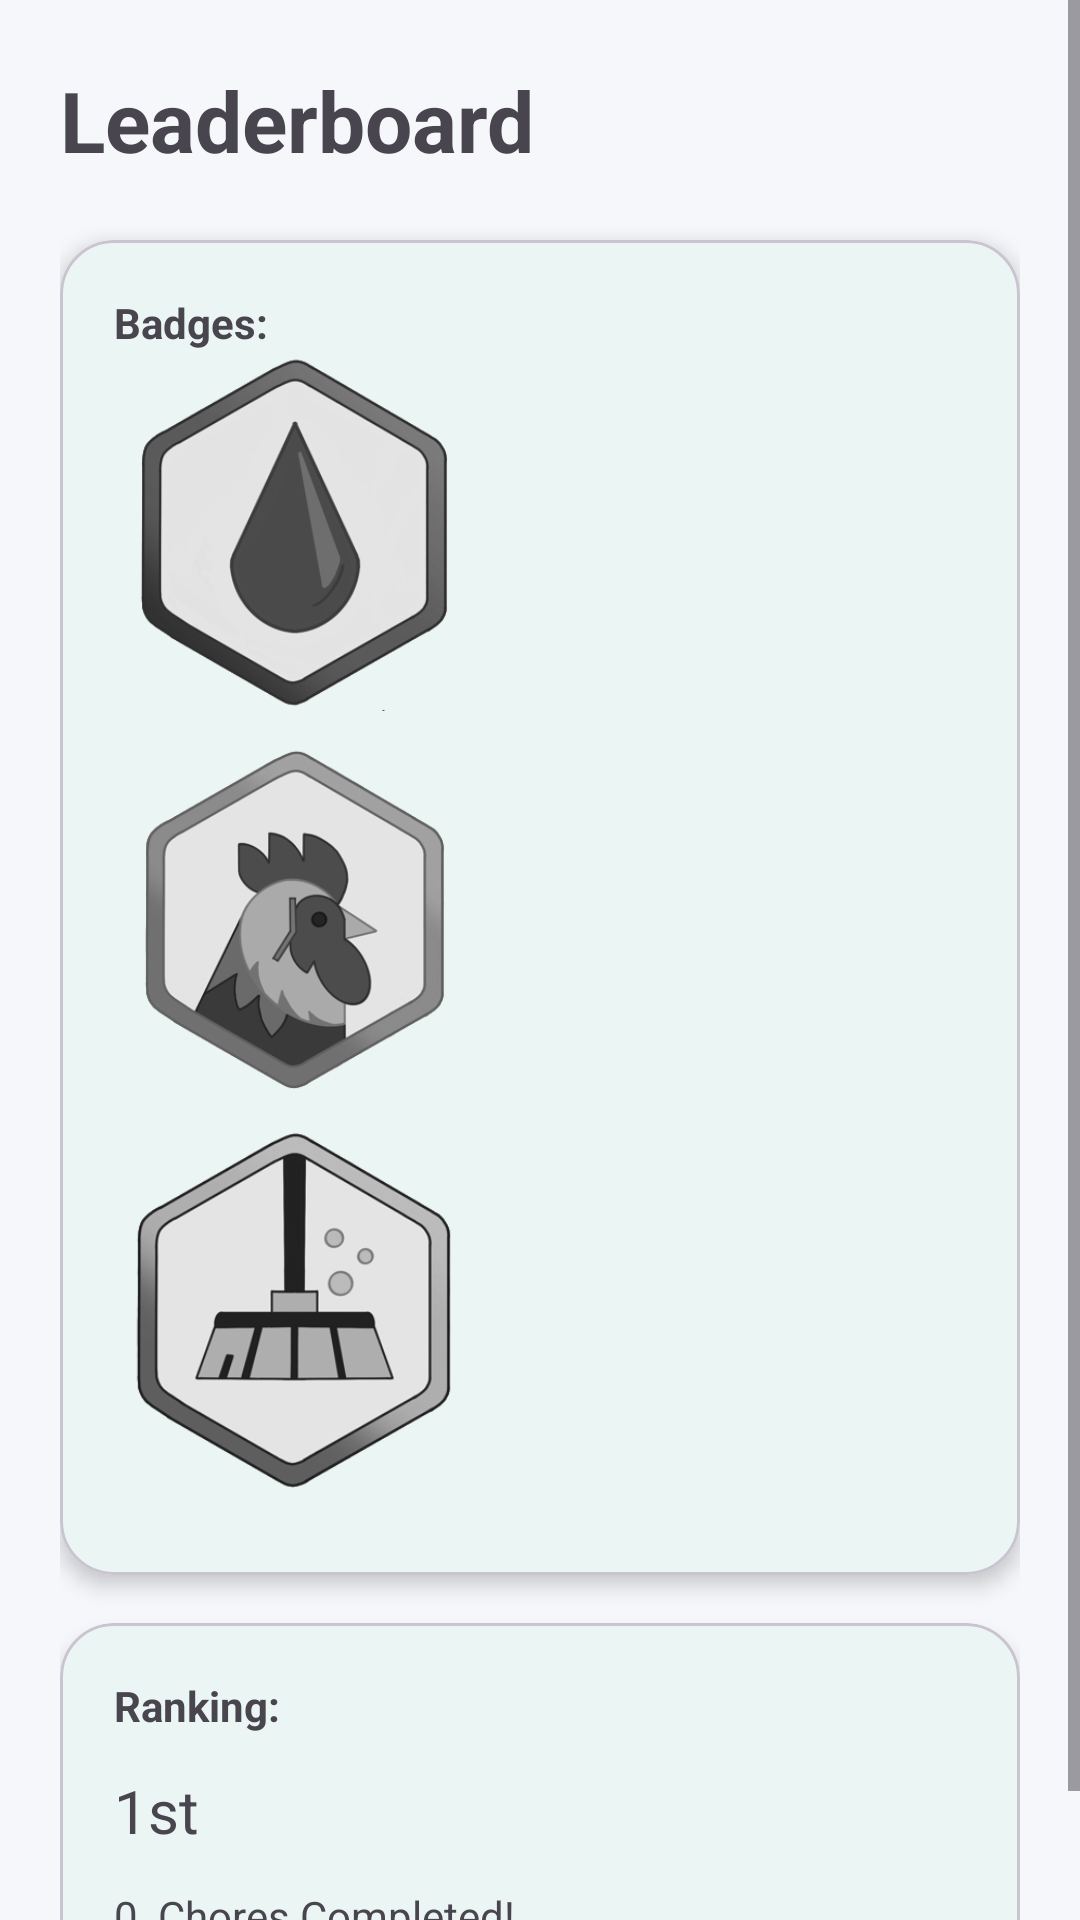

Named icons in this screenshot (1080px×1920px) and their bounding boxes, (x1, y1, x2, y2):
cleansweepbw: (136, 1133, 451, 1488)
earlybirdbw: (145, 751, 444, 1089)
firstbloodbw: (141, 359, 447, 711)
